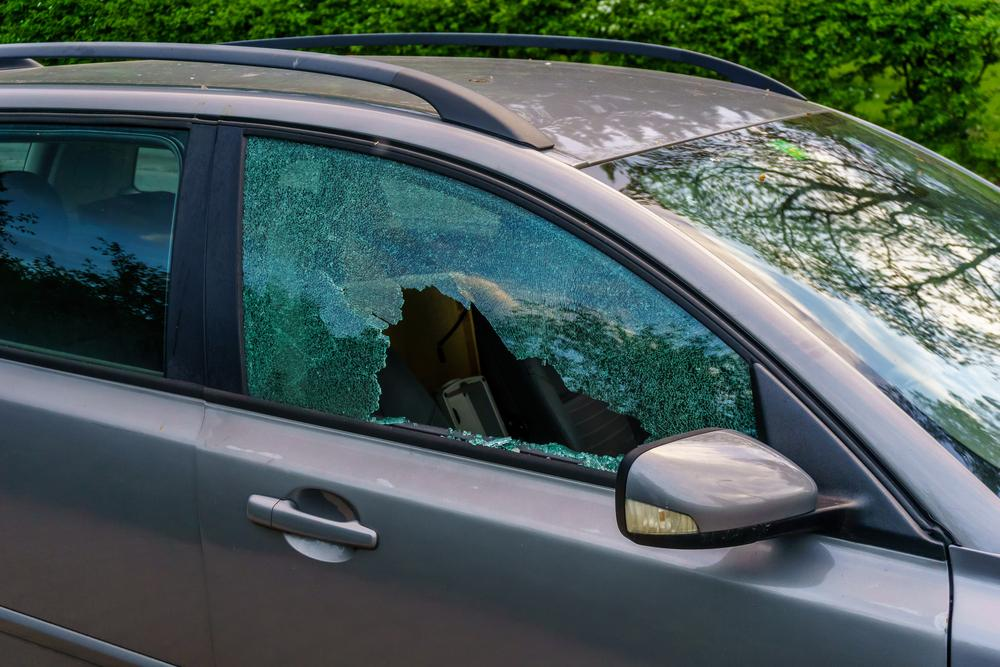glass shatter: (242, 138, 756, 470)
